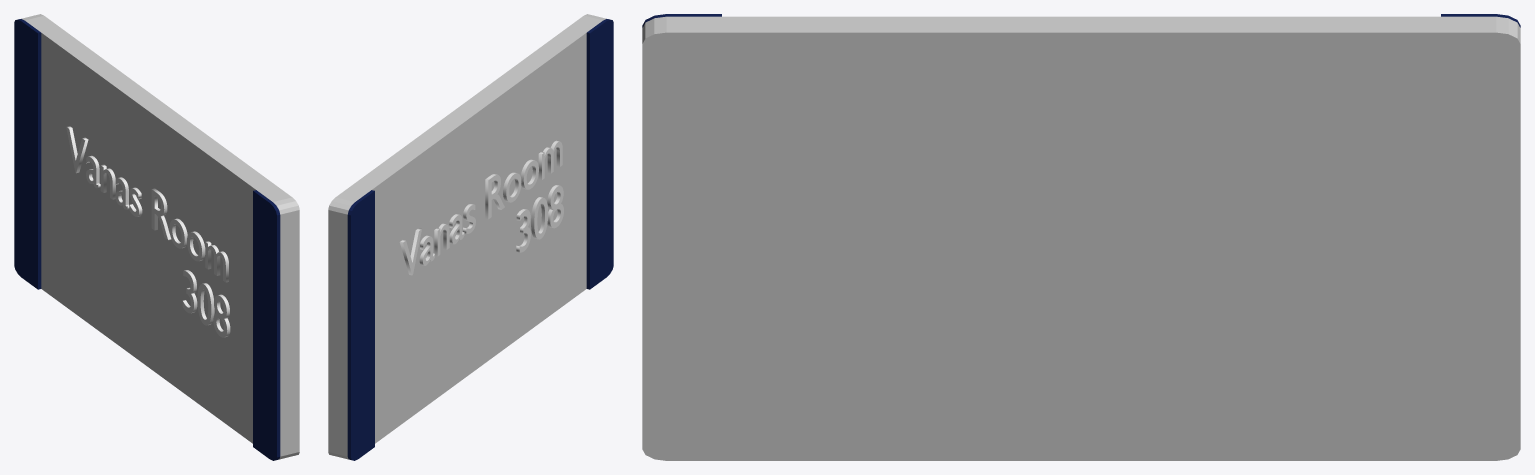
File: doorNumber.fbx
The picture shows the model from 3 angles, left to right: view 1: azimuth 30°, elevation 25°; view 2: azimuth 150°, elevation 25°; view 3: azimuth 270°, elevation 25°; orthographic projection. The views are drawn at different scales.
Parts seen in each view (by area): view 1: Cube, Text.002; view 2: Cube, Text.002; view 3: Cube.
Part boxes in pixels (bbox=[...]): Cube: bbox=[14, 14, 299, 460]; Text.002: bbox=[66, 125, 230, 337]; Cube: bbox=[328, 14, 613, 460]; Text.002: bbox=[399, 140, 563, 275]; Cube: bbox=[642, 14, 1520, 460].
Bounding box in the file's own units: 28.18 × 302 × 562.
